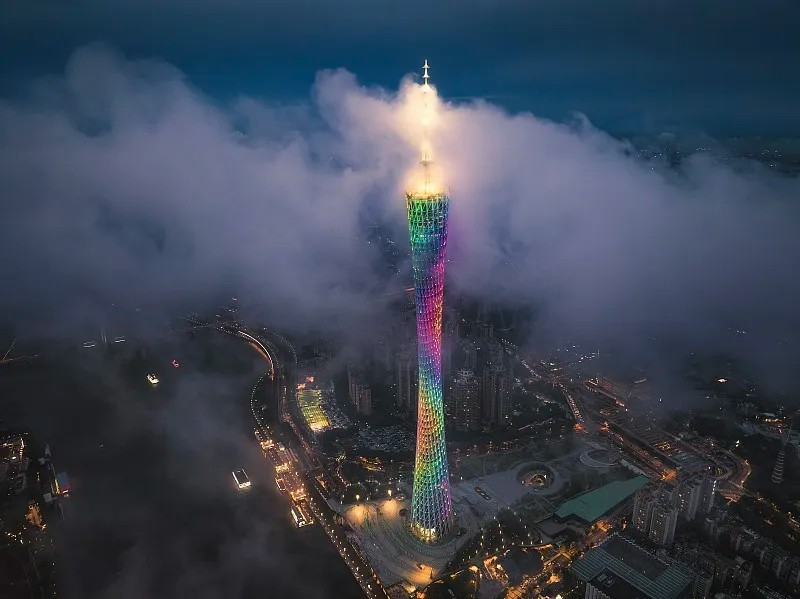Canton: (405, 59, 458, 545)
